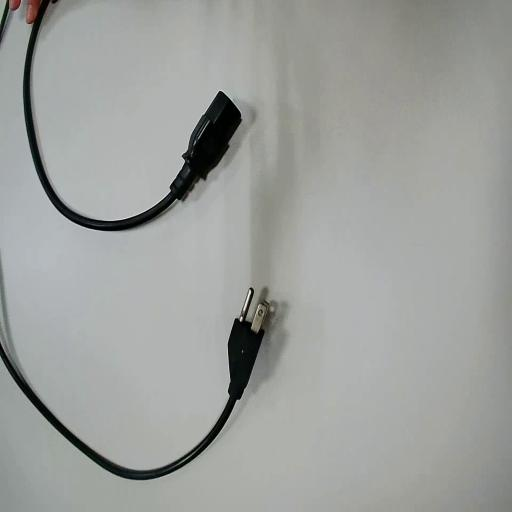wire: (24, 0, 240, 230), (0, 311, 265, 478)
